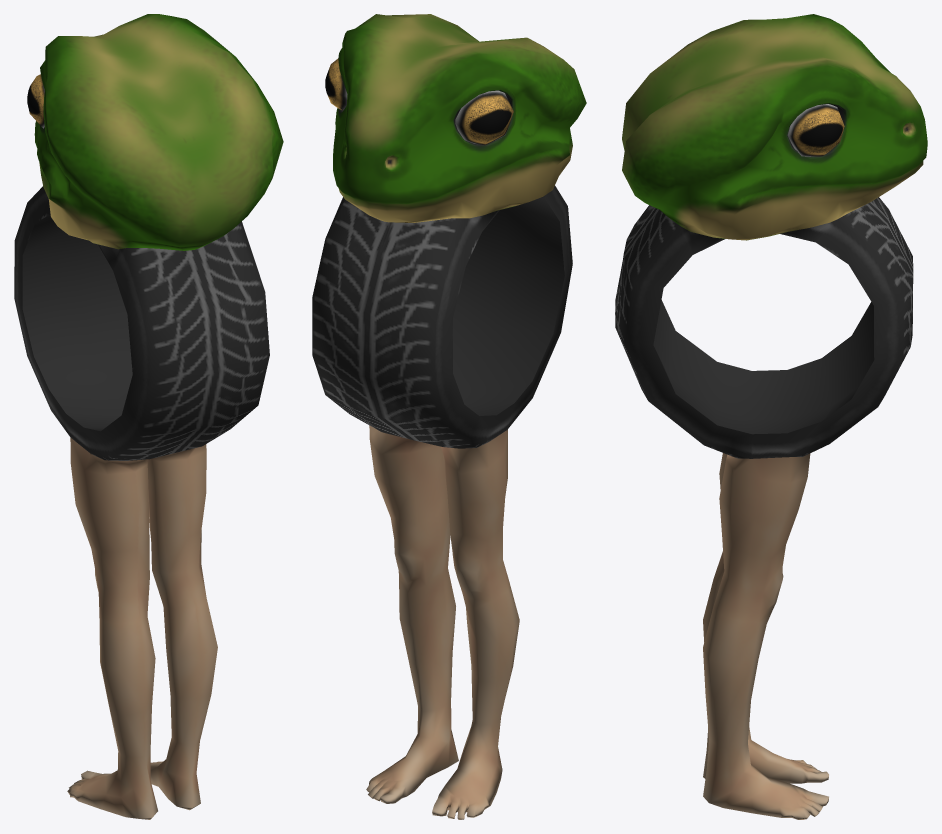
File: boneca.glb
The picture shows the model from 3 angles, left to right: view 1: azimuth 30°, elevation 25°; view 2: azimuth 150°, elevation 25°; view 3: azimuth 270°, elevation 25°; orthographic projection.
Parts seen in each view (by area): view 1: Boneca_LP; view 2: Boneca_LP; view 3: Boneca_LP.
Boxes of the visible parts, box(x1,y1,x2,y2) form: Boneca_LP: box(14, 14, 283, 819); Boneca_LP: box(312, 14, 586, 819); Boneca_LP: box(615, 14, 927, 819).
Size of the model in its own units: 3.01 by 9.94 by 3.74.
Materials: 2 (2 with a texture image).
